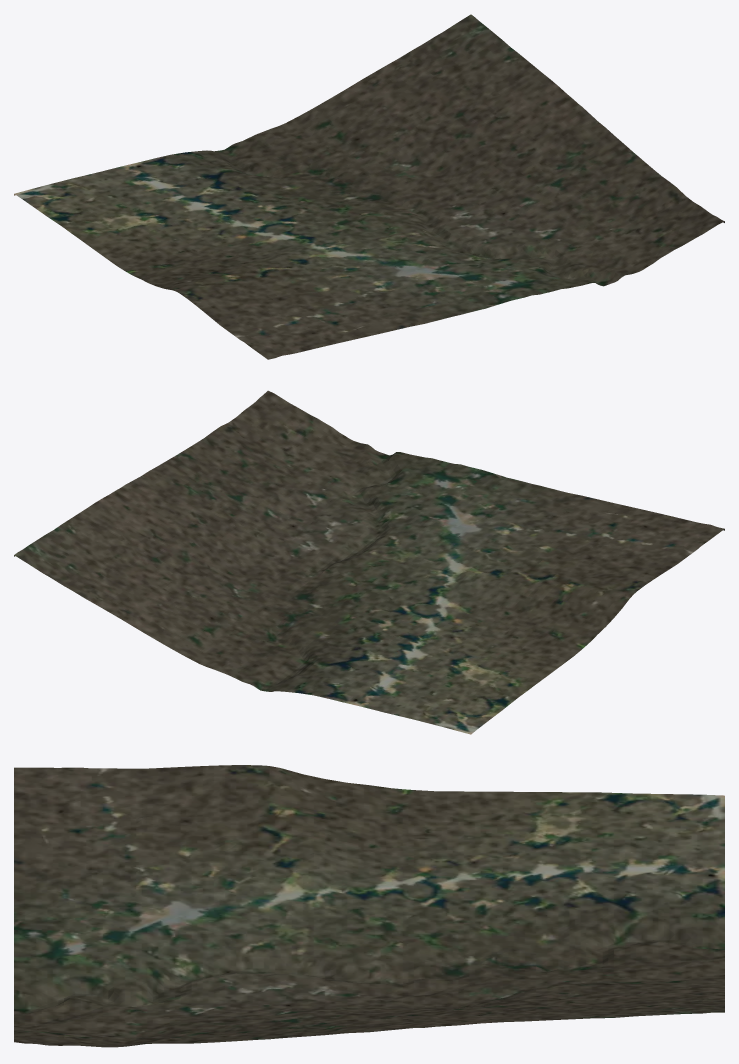
The picture shows the model from 3 angles, top to bottom: view 1: azimuth 30°, elevation 25°; view 2: azimuth 150°, elevation 25°; view 3: azimuth 270°, elevation 25°; orthographic projection. The views are drawn at different scales.
Bounding box in the file's own units: 250 × 40.32 × 241.
Materials: 1 (1 with a texture image).
